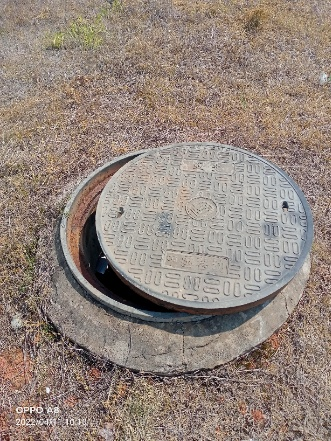uncovered: (56, 141, 313, 324)
